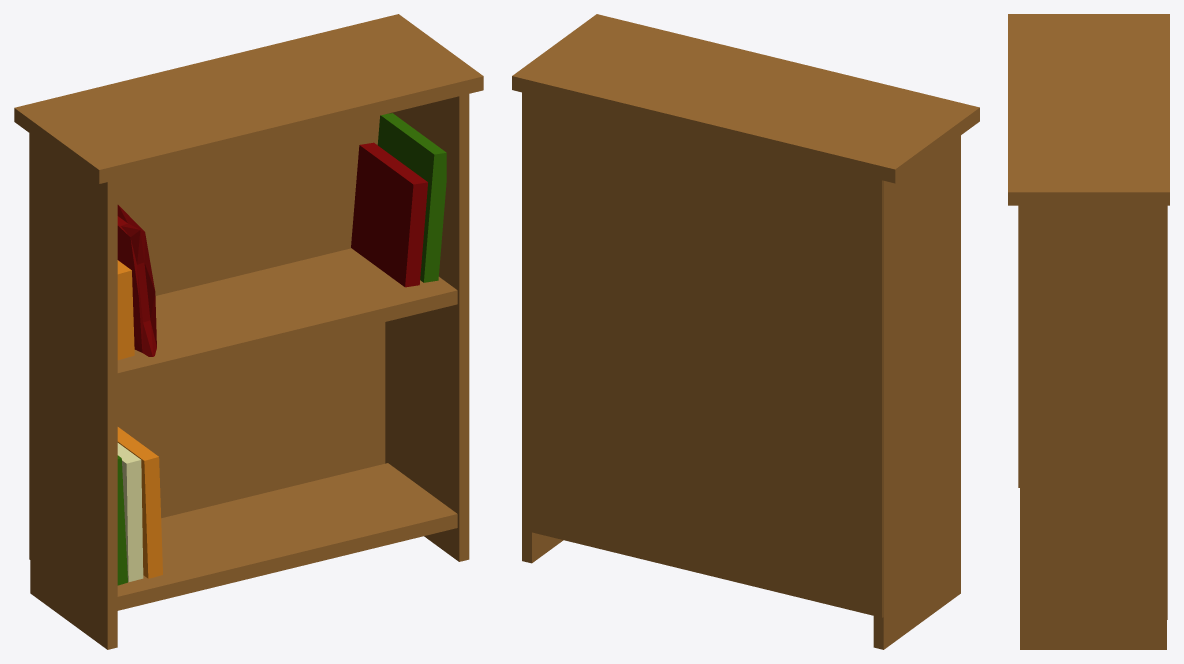
The model's file is smallbookshelves.obj.
The picture shows the model from 3 angles, left to right: view 1: azimuth 30°, elevation 25°; view 2: azimuth 150°, elevation 25°; view 3: azimuth 270°, elevation 25°; orthographic projection. The views are drawn at different scales.
Visible parts, largest first — view 1: back, left_side, top, bottom_shelf, right_side, middle_shelf, red_book, green_book_2, red_book_2, orange_book, white_book, orange_book_2 (+1 smaller); view 2: back, top, left_side, right_side; view 3: right_side, top, left_side, back.
Part boxes in pixels (<box>): back: <box>29,115,385,559</box>; left_side: <box>30,134,117,649</box>; top: <box>14,14,483,183</box>; bottom_shelf: <box>117,463,457,610</box>; right_side: <box>385,94,469,561</box>; middle_shelf: <box>117,248,457,386</box>; red_book: <box>351,142,427,287</box>; green_book_2: <box>377,113,446,282</box>; red_book_2: <box>117,205,156,356</box>; orange_book: <box>117,427,162,578</box>; white_book: <box>117,443,143,582</box>; orange_book_2: <box>117,260,134,360</box>; back: <box>522,92,883,617</box>; top: <box>512,14,979,183</box>; left_side: <box>873,135,960,649</box>; right_side: <box>522,530,563,563</box>; right_side: <box>1020,205,1166,649</box>; top: <box>1008,14,1169,205</box>; left_side: <box>1018,205,1019,487</box>; back: <box>1167,205,1167,619</box>.
Size of the model in its own units: 2.87 by 3.48 by 1.1.
